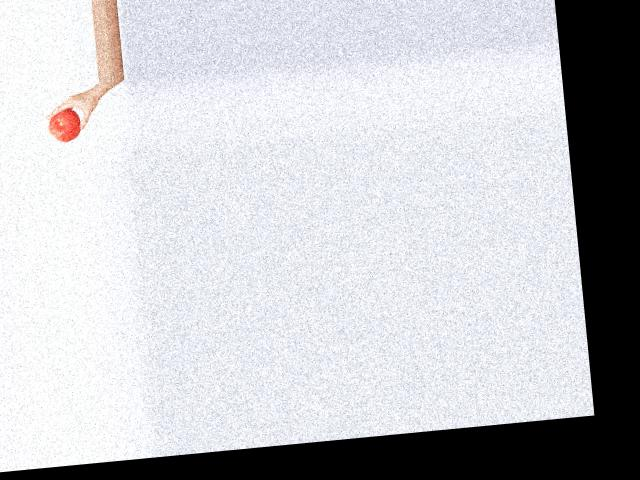tomato: (46, 109, 81, 143)
